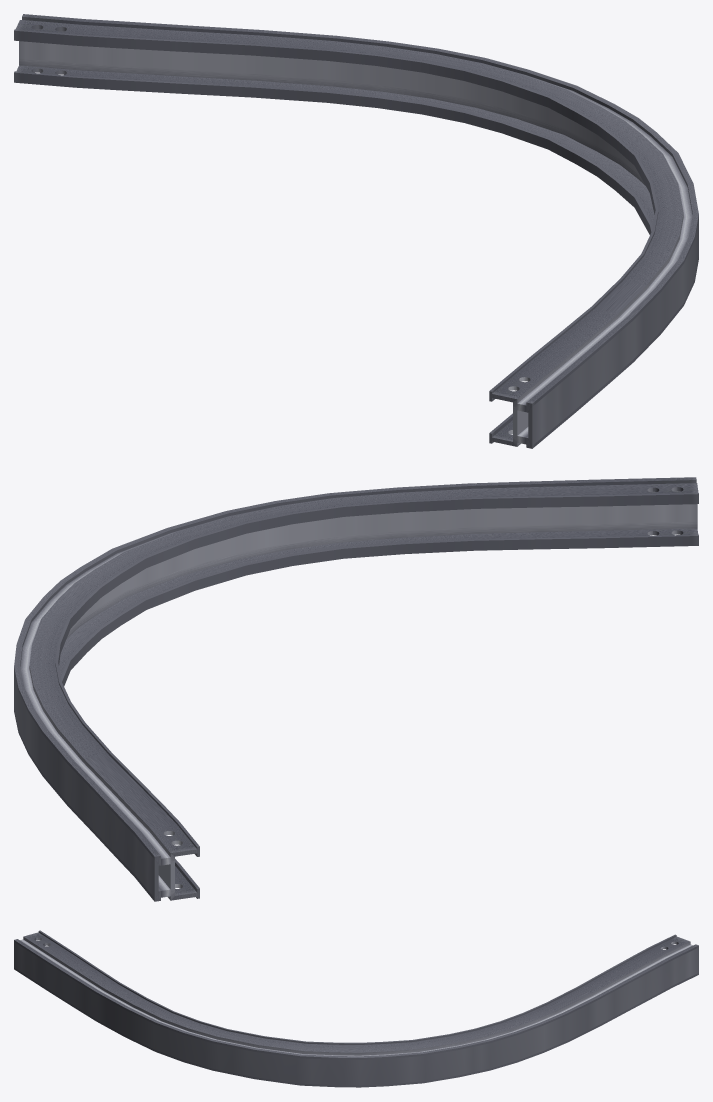
The picture shows the model from 3 angles, top to bottom: view 1: azimuth 30°, elevation 25°; view 2: azimuth 150°, elevation 25°; view 3: azimuth 270°, elevation 25°; orthographic projection. The views are drawn at different scales.
Parts seen in each view (by area): view 1: PN 8000-02; view 2: PN 8000-02; view 3: PN 8000-02.
Part boxes in pixels (left/top/right/bottom): PN 8000-02: left=14, top=14, right=698, bottom=448; PN 8000-02: left=14, top=477, right=698, bottom=901; PN 8000-02: left=14, top=930, right=698, bottom=1087.
Bounding box in the file's own units: 50.9 × 6.39 × 117.
Materials: 1 (1 with a texture image).
